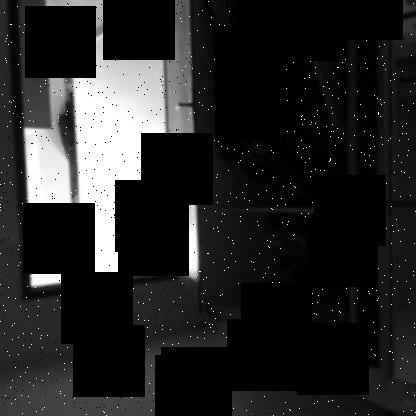Porte: (6, 0, 218, 309)
